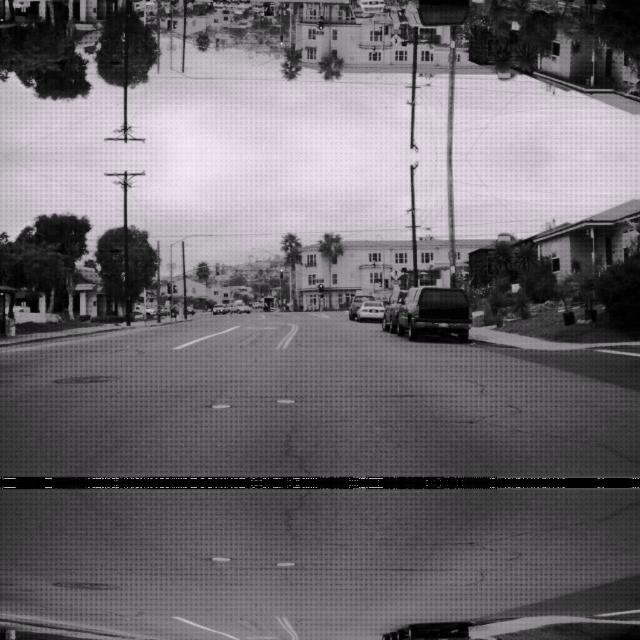pedestrianCrossing: (388, 264, 404, 280), (388, 32, 404, 48)
